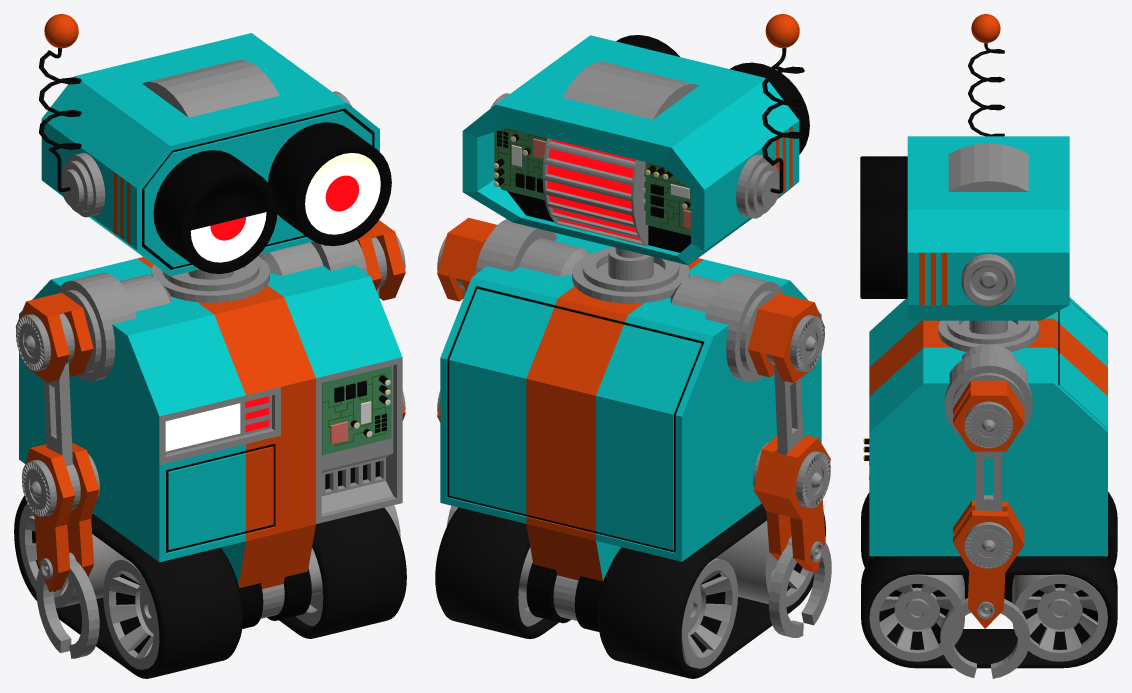
File: finalRobot.glb
3 views of the same model, side by side, from view 1: azimuth 30°, elevation 25°; view 2: azimuth 150°, elevation 25°; view 3: azimuth 270°, elevation 25° (orthographic). The views are drawn at different scales.
Parts seen in each view (by area): view 1: Cube, Cylinder.002, BezierCircle, BezierCircle.001, Cylinder.008, Cylinder.006, Cylinder.012, Cylinder.005, Cube.001, Cylinder.013, BezierCurve, Cylinder.015 (+3 smaller); view 2: Cube, Cylinder.002, BezierCircle, BezierCircle.001, Cylinder.006, Cylinder.008, Cylinder.013, Cylinder.005, Cube.001, Cylinder.012, Cylinder.015, BezierCurve (+3 smaller); view 3: Cube, Cylinder.002, BezierCircle.001, Cylinder.022, Cylinder.021, Cylinder.017, Cylinder.016, Cylinder.015, BezierCurve, Cylinder.020, Cylinder.019, BezierCircle.
Boxes of the visible parts, x1,y1,x2,y2 form: Cube: (19,239,402,588); Cylinder.002: (41,33,391,276); BezierCircle: (14,496,242,678); BezierCircle.001: (279,507,406,638); Cylinder.008: (16,313,99,517); Cylinder.006: (25,442,99,591); Cylinder.012: (103,558,159,669); Cylinder.005: (15,292,93,382); Cube.001: (239,568,311,628); Cylinder.013: (19,503,125,608); BezierCurve: (39,14,81,191); Cylinder.015: (357,220,405,300); Cube: (440,219,821,581); Cylinder.002: (462,35,809,264); BezierCircle: (598,503,825,678); BezierCircle.001: (435,507,558,638); Cylinder.006: (754,435,830,572); Cylinder.008: (753,315,830,508); Cylinder.013: (681,558,737,668); Cylinder.005: (747,293,824,382); Cube.001: (526,562,606,631); Cylinder.012: (716,520,813,606); Cylinder.015: (437,217,497,301); BezierCurve: (762,14,804,193); Cube: (863,297,1107,556); Cylinder.002: (860,136,1069,320); BezierCircle.001: (861,556,1117,668); Cylinder.022: (1012,574,1107,661); Cylinder.021: (869,574,964,661); Cylinder.017: (964,401,1012,568); Cylinder.016: (953,500,1024,628); Cylinder.015: (953,380,1024,451); BezierCurve: (968,14,1004,136); Cylinder.020: (991,599,1029,678); Cylinder.019: (940,598,976,677); BezierCircle: (861,492,1117,568).
Size of the model in its own units: 3.04 by 5.01 by 2.16.
